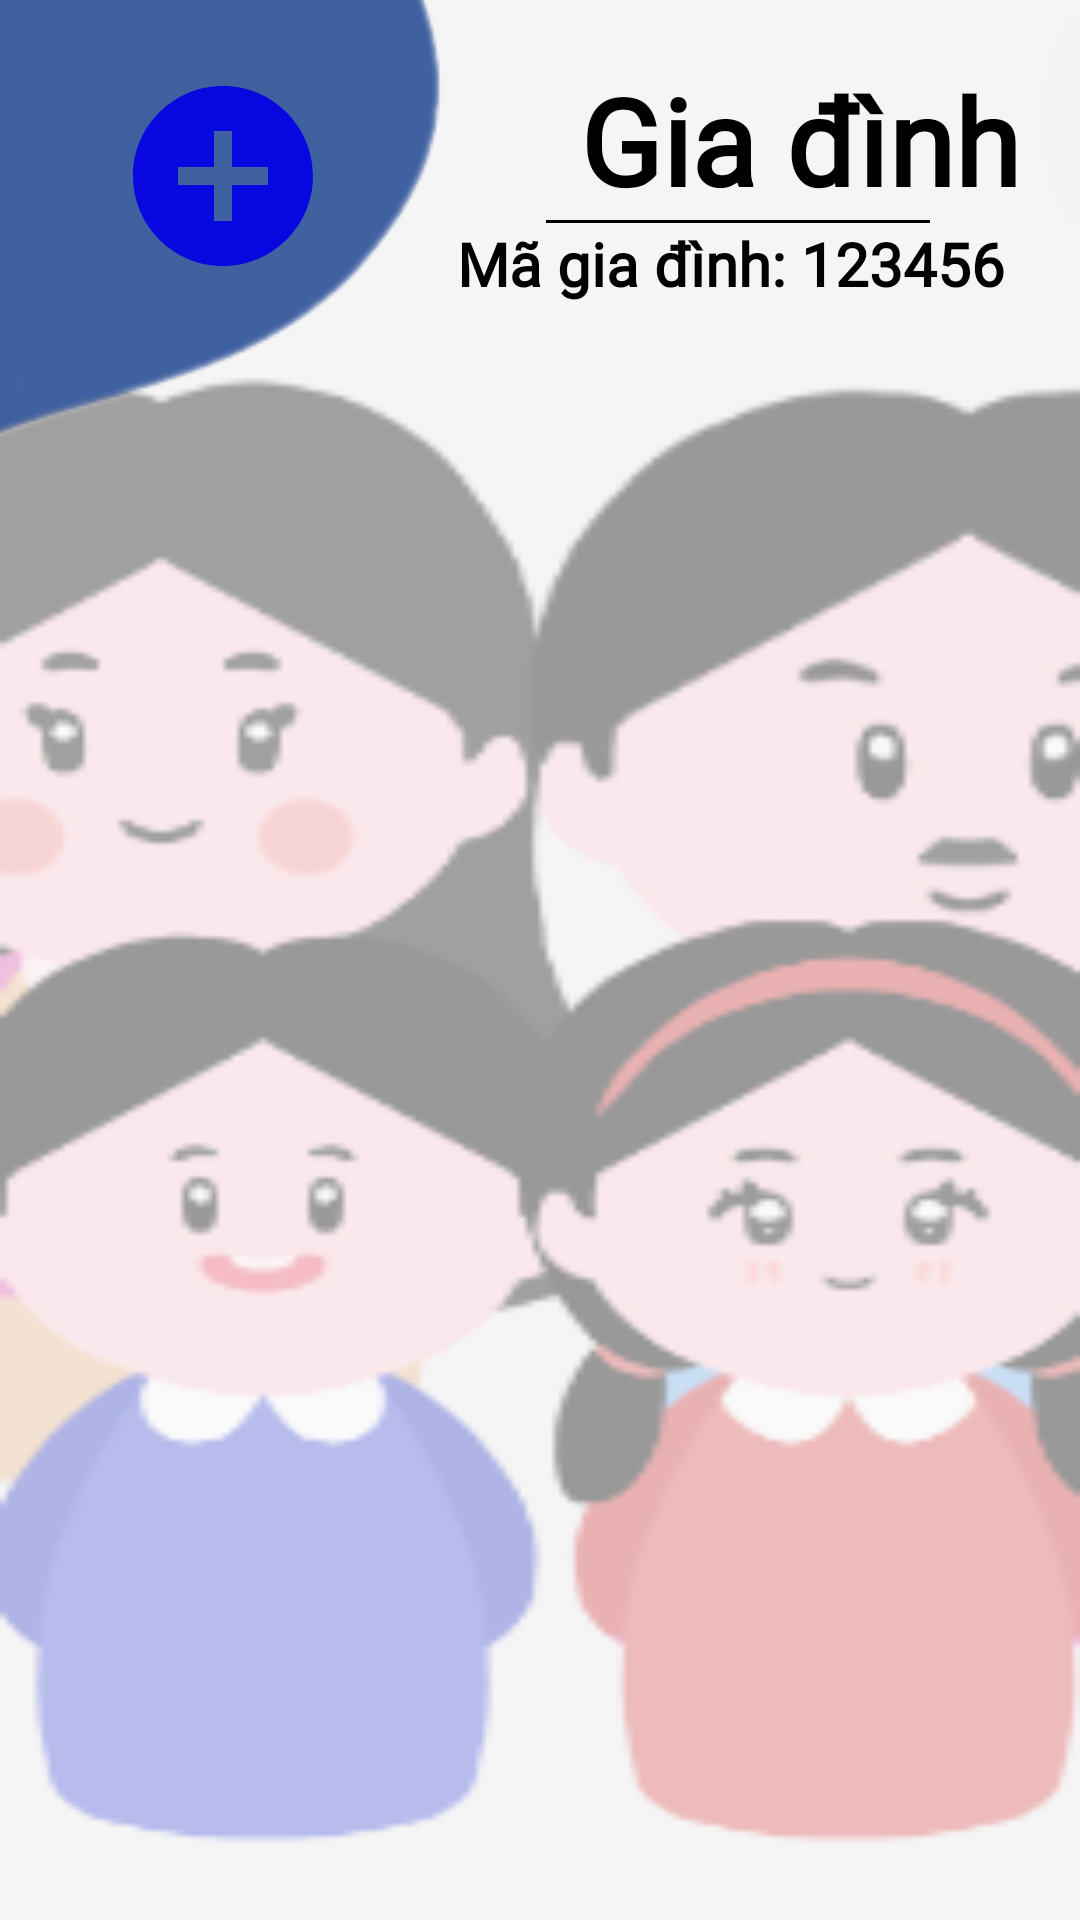

Icon click points for this 1080×1920 phone screenshot, format (x,y):
add circle: (223,176)
